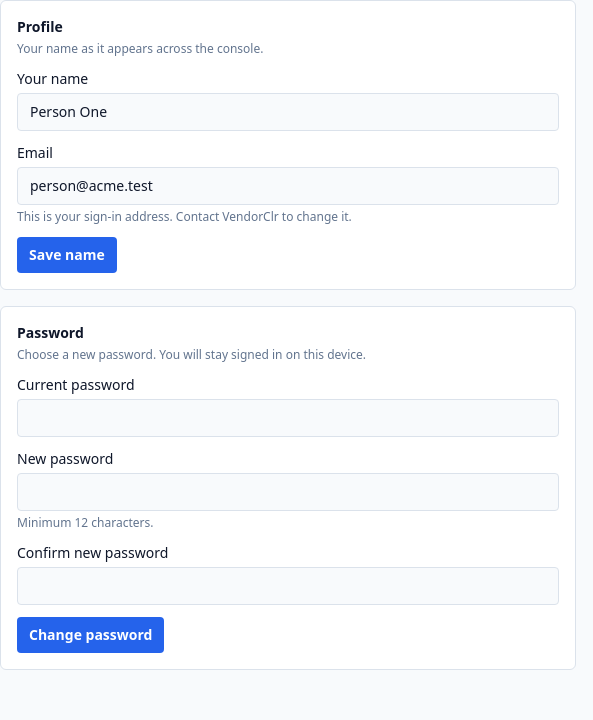
Test: AccountSettings › changes the password after verifying the current one
Type "oldpassword123" into the password field labelled "Current password" at (288, 418), box [17,399,559,437]
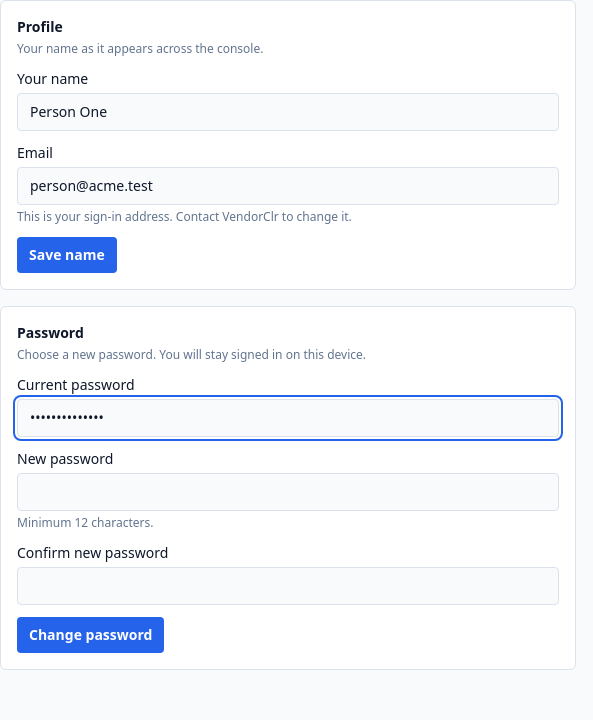
Type "brandnewpassword1" into the password field labelled "New password" at (288, 492), box [17,473,559,511]
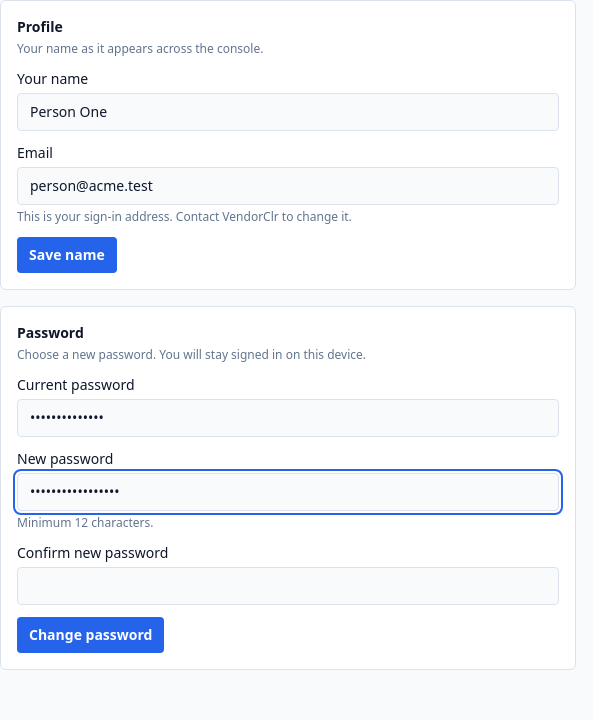
Type "brandnewpassword1" into the password field labelled "Confirm new password" at (288, 586), box [17,567,559,605]
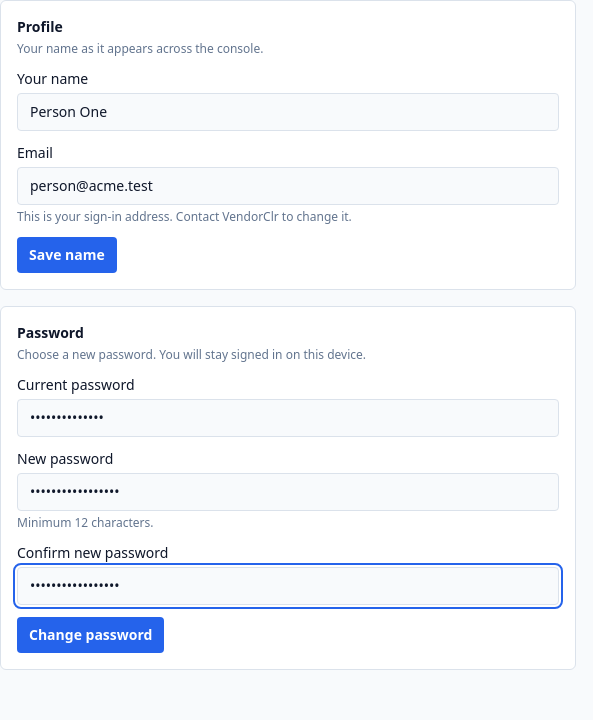
Click the button "Change password" at (91, 635), box [17,617,164,653]
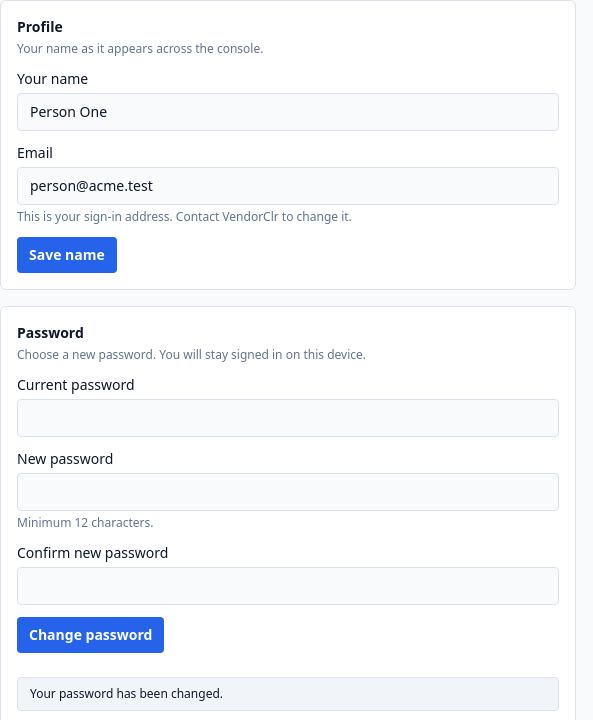
Now the text "Your password has been changed." is shown, box [17,677,559,711]
